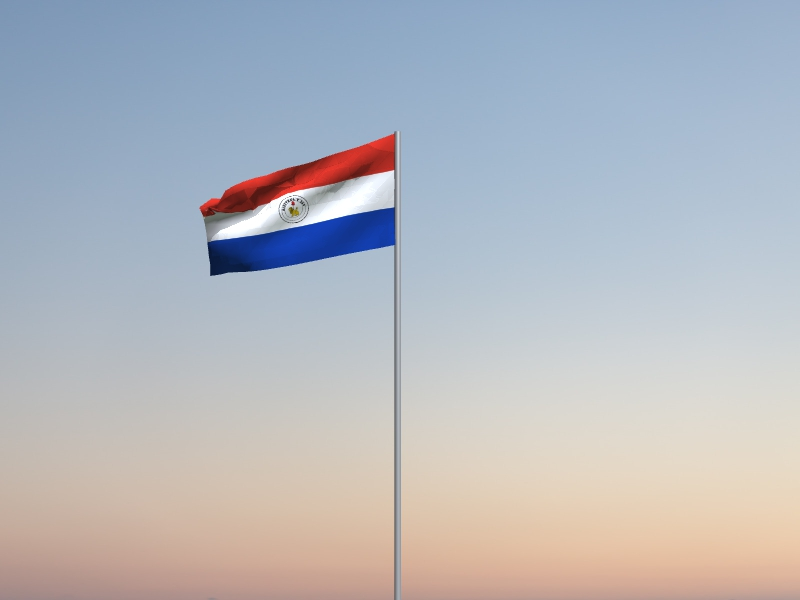py: (199, 133, 395, 278)
